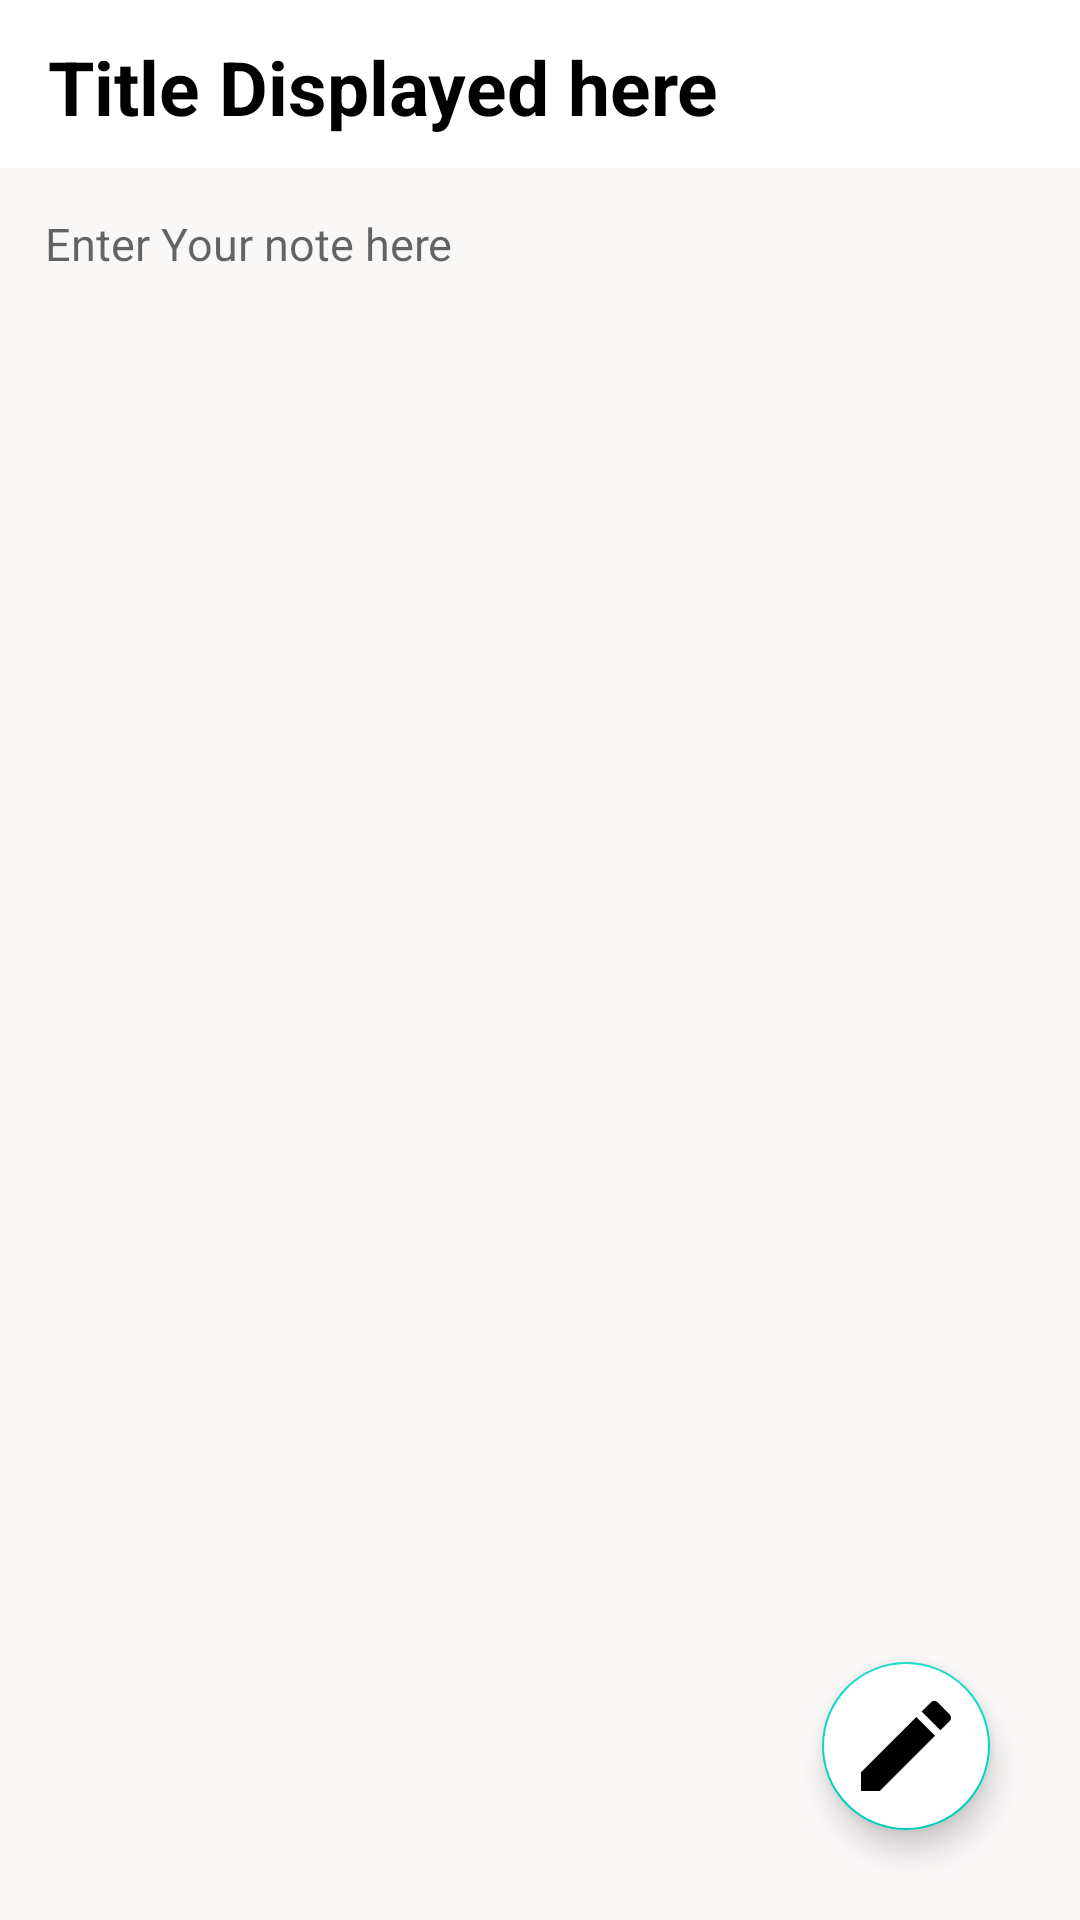

Icon click points for this 1080x1920 phone screenshot, format (x=x, y=y):
edit: (x=906, y=1746)
